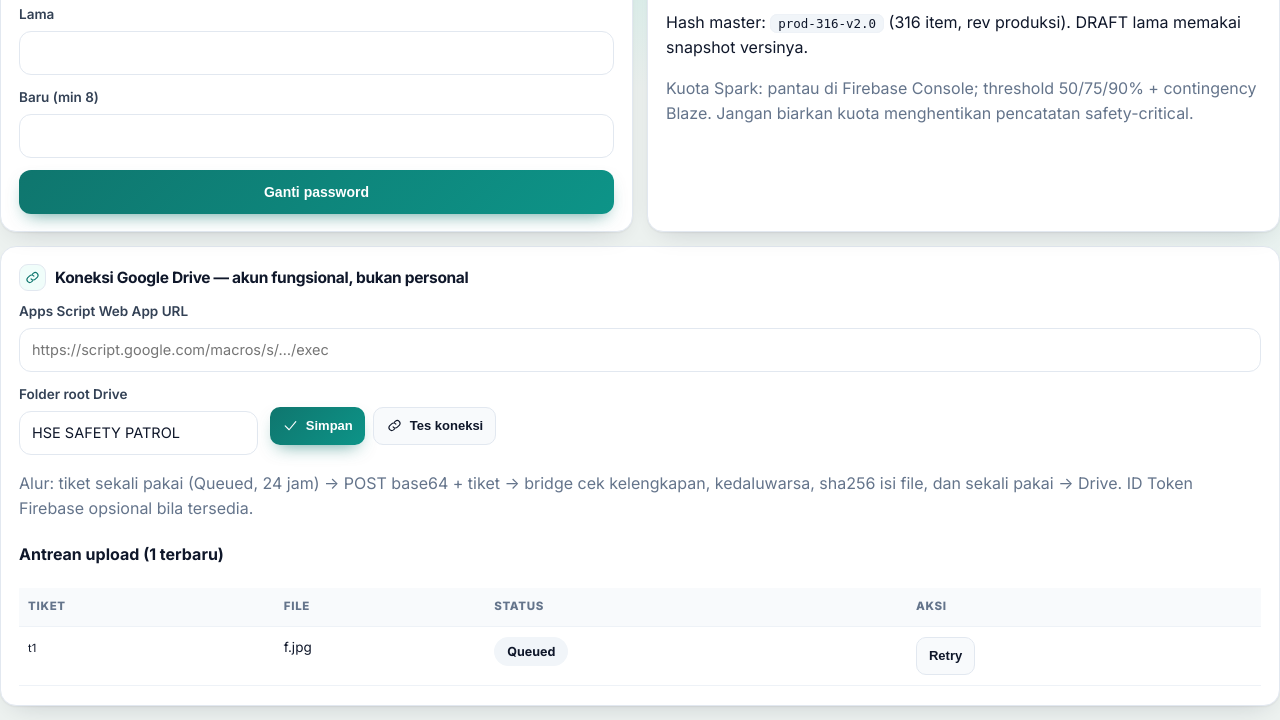
Admin › drive: gagal tanpa konfigurasi, lalu simpan + tes koneksi + retry
(page scrolled)
Expected: the text "t1" is shown, [28,641,36,655]
Click the button "Tes koneksi" at (435, 426), box [373,407,496,445]
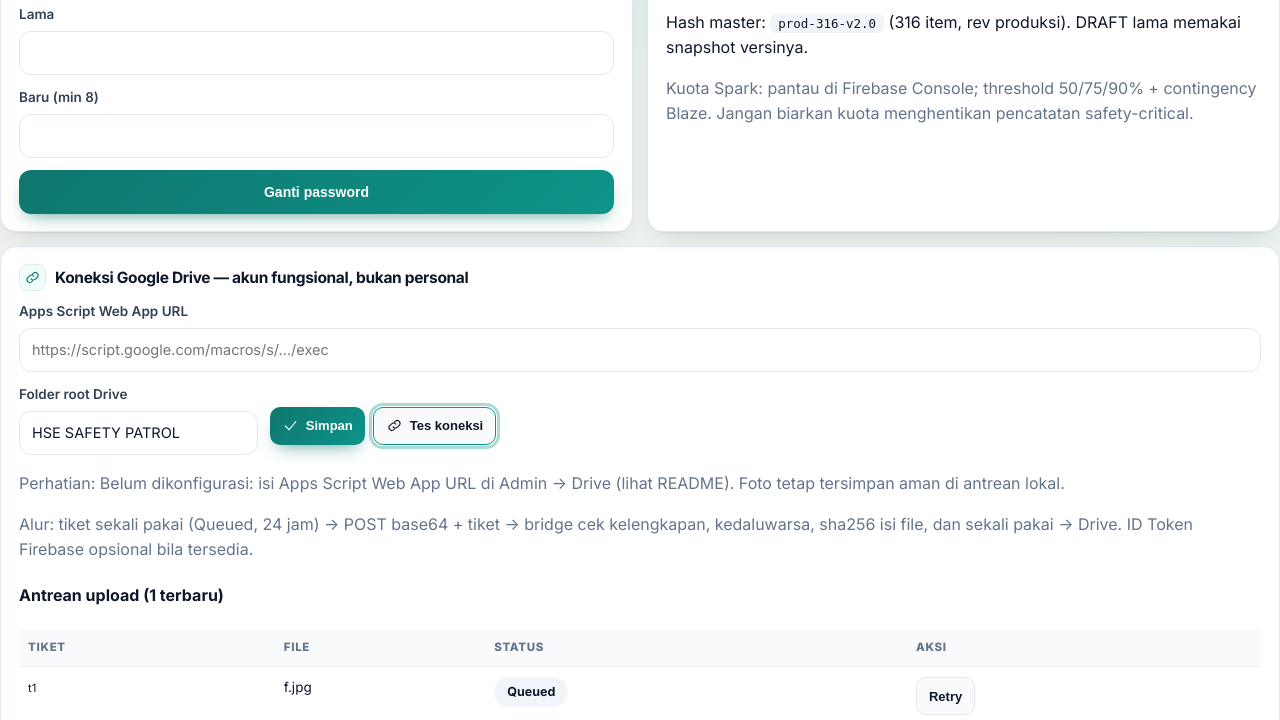
Now the text "Belum dikonfigurasi" is shown, box [19,473,1065,493]
Replace the text in the field labelled "Folder root Drive" with "HSE TEST" at (138, 433), box [19,411,258,455]
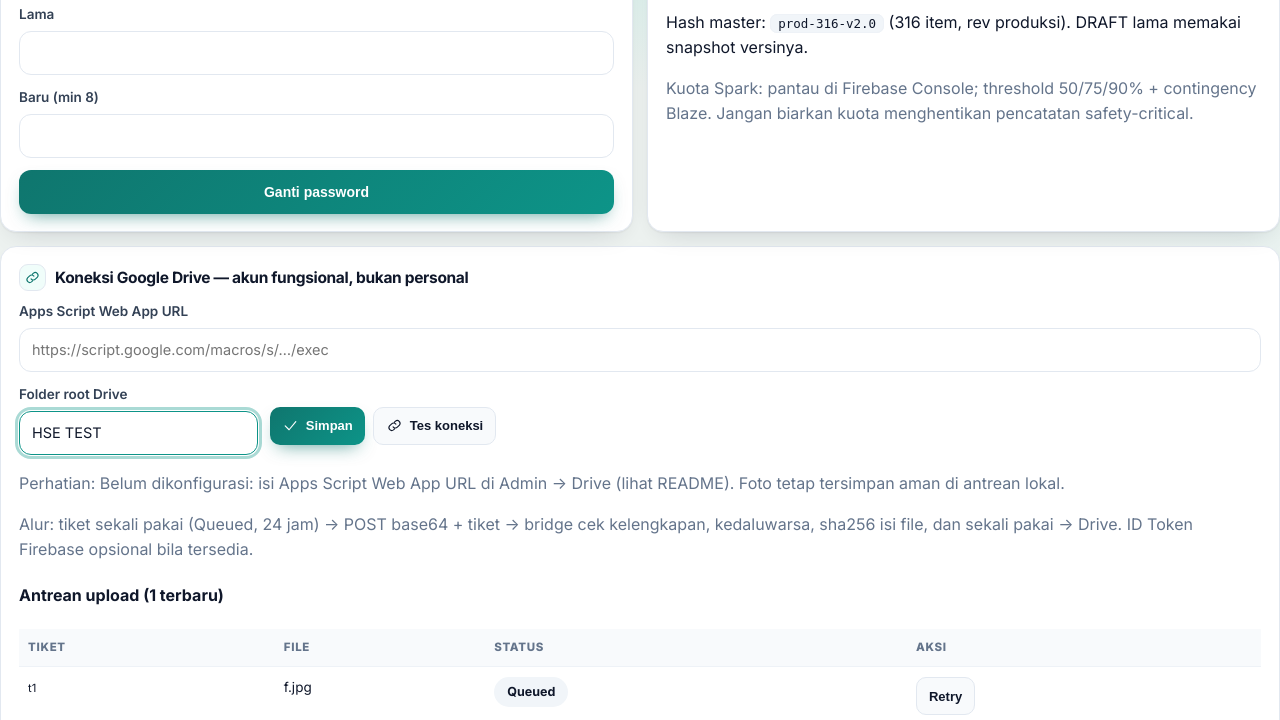
Type "https://script/exec" into the field labelled "Apps Script Web App URL" at (640, 350), box [19,328,1261,372]
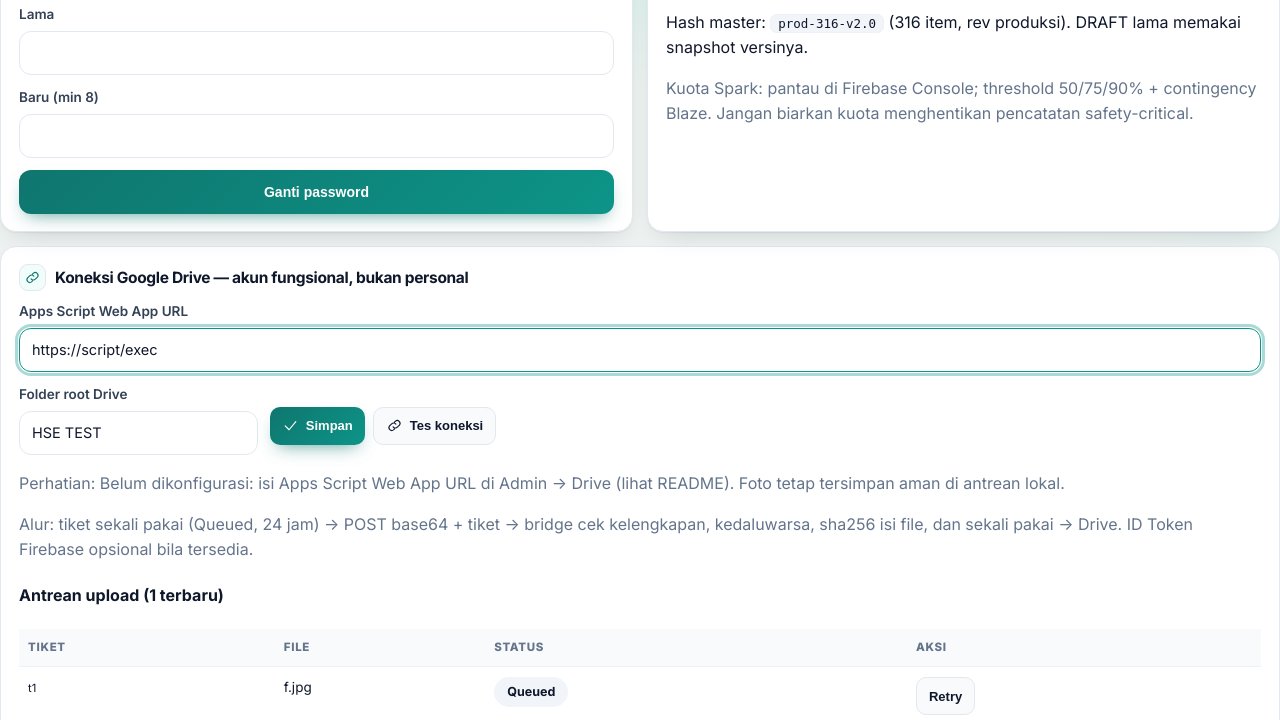
Click the button "Simpan" at (317, 426), box [270,407,365,445]
(page scrolled)
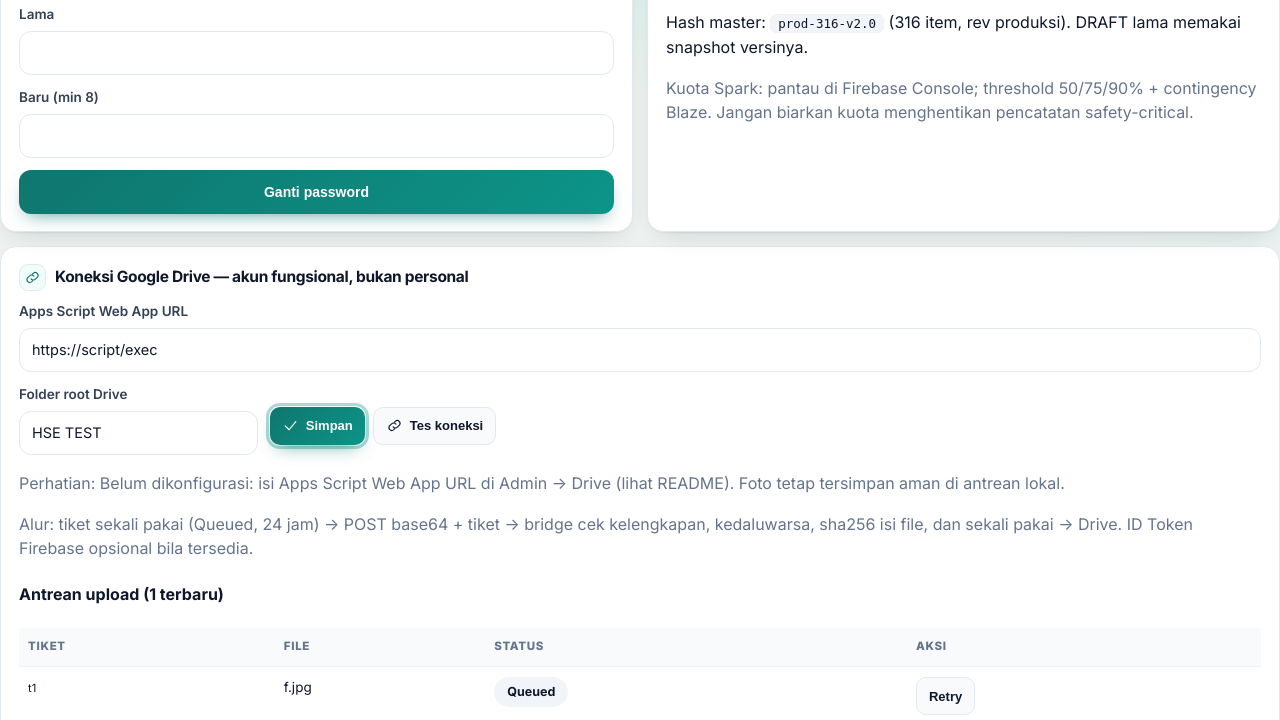
Click the button "Tes koneksi" at (435, 426), box [373,407,496,445]
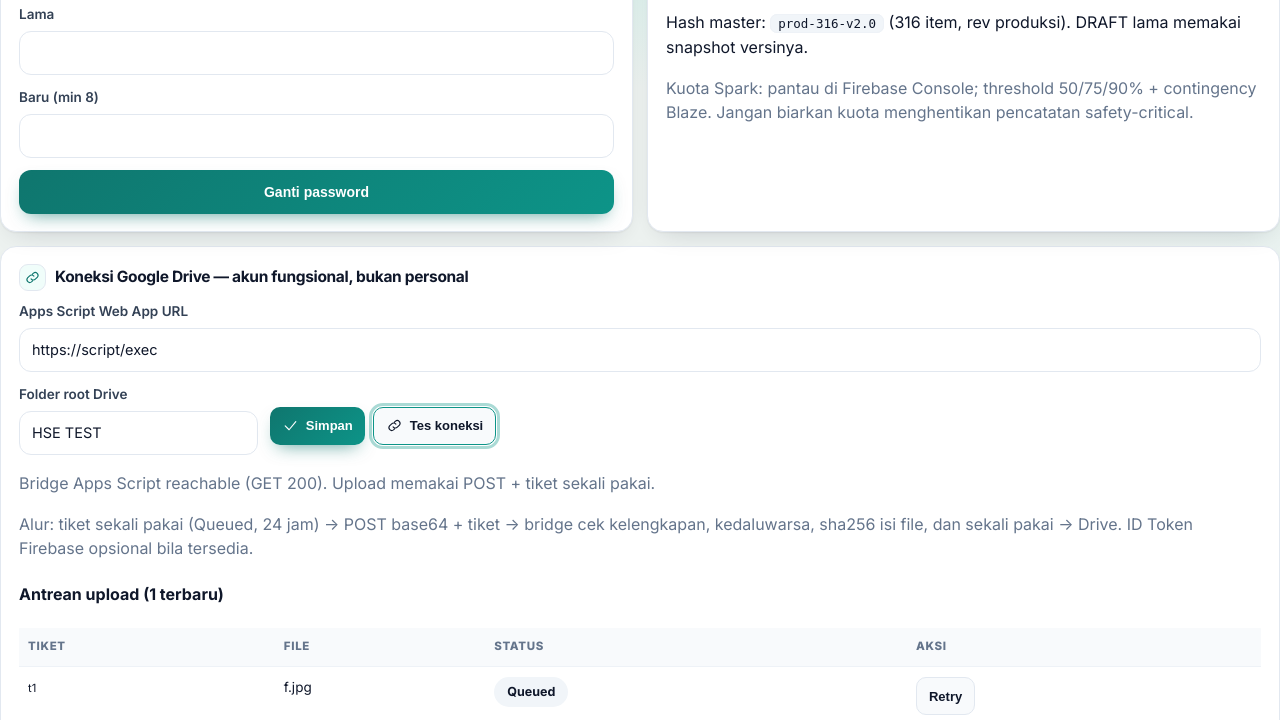
Now the text "reachable" is shown, box [19,473,655,493]
Click the button "Retry" at (946, 696), box [916,677,975,715]
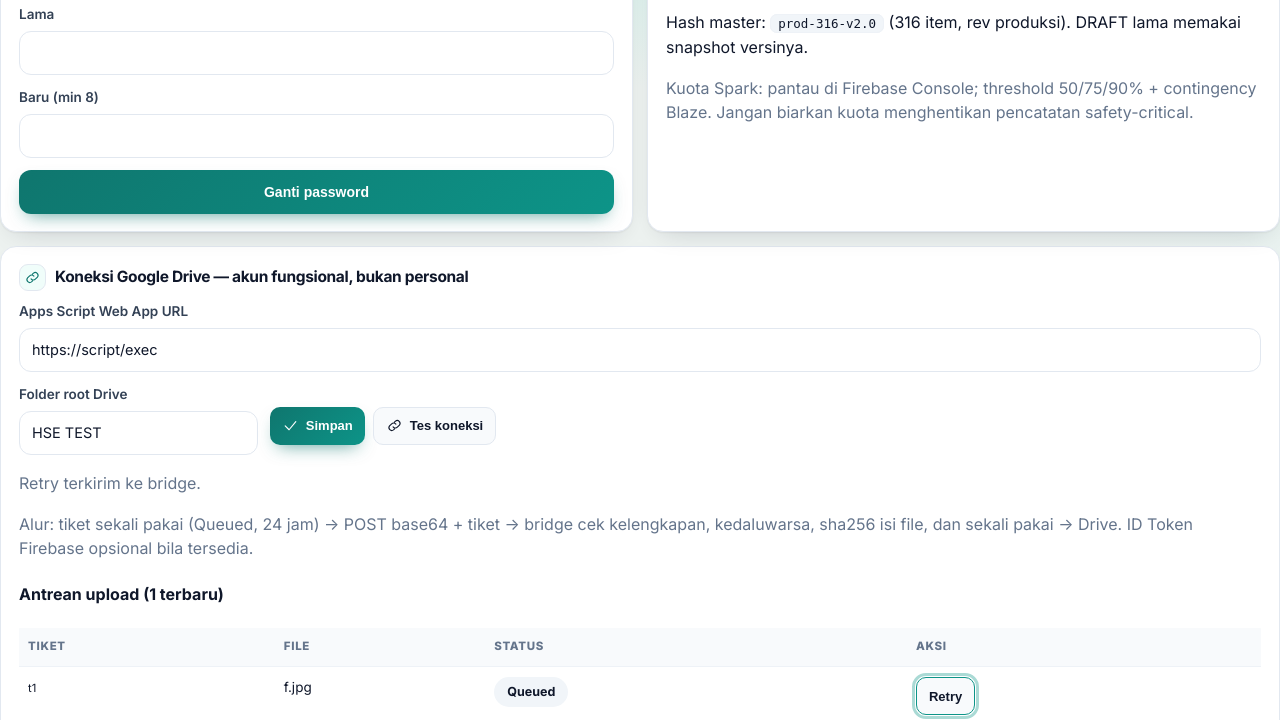
Now the text "Retry terkirim ke bridge." is shown, box [19,473,201,493]
